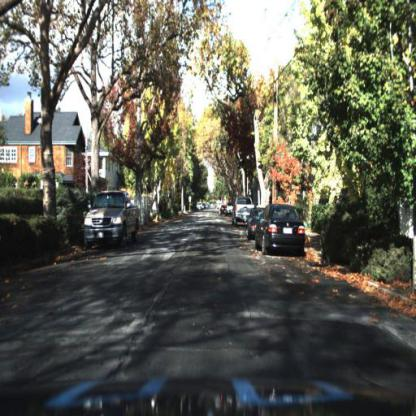car: (81, 193, 138, 254), (255, 204, 310, 254), (230, 191, 256, 229), (236, 198, 250, 229), (248, 210, 259, 245), (220, 205, 227, 219)
